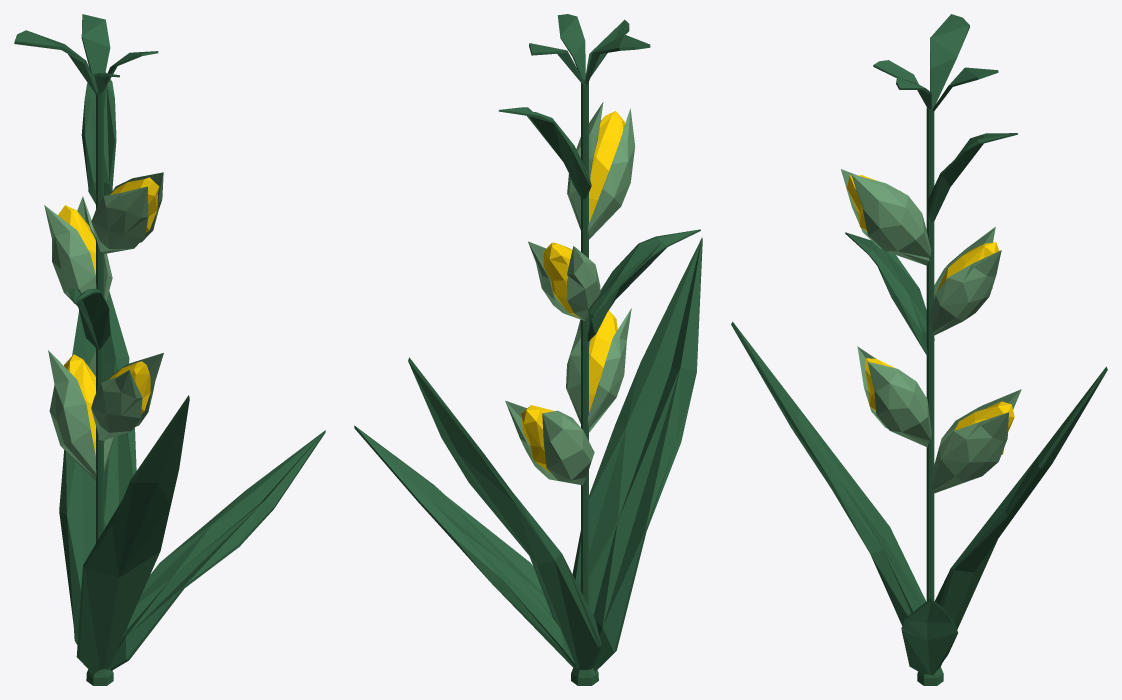
The model's file is mod_vg_corn.fbx.
3 renders of one model, left to right at view 1: azimuth 30°, elevation 25°; view 2: azimuth 150°, elevation 25°; view 3: azimuth 270°, elevation 25°, orthographic. The views are drawn at different scales.
Visible parts, largest first — view 1: TigeMais, Epi1, Epi4, Epi3, Epi2; view 2: TigeMais, Epi4, Epi1, Epi2, Epi3; view 3: TigeMais, Epi1, Epi4, Epi3, Epi2.
Part boxes in pixels (x1=…): TigeMais: x1=14, y1=14, x2=325, y2=685; Epi1: x1=48, y1=350, x2=113, y2=482; Epi4: x1=91, y1=172, x2=163, y2=254; Epi3: x1=44, y1=196, x2=112, y2=306; Epi2: x1=91, y1=353, x2=163, y2=440; TigeMais: x1=354, y1=14, x2=702, y2=685; Epi4: x1=567, y1=102, x2=635, y2=239; Epi1: x1=505, y1=400, x2=594, y2=485; Epi2: x1=566, y1=308, x2=631, y2=432; Epi3: x1=528, y1=241, x2=600, y2=320; TigeMais: x1=731, y1=14, x2=1107, y2=685; Epi1: x1=931, y1=389, x2=1021, y2=493; Epi4: x1=841, y1=169, x2=931, y2=265; Epi3: x1=929, y1=227, x2=1001, y2=335; Epi2: x1=857, y1=346, x2=931, y2=447.
Size of the model in its own units: 75.29 by 156 by 84.02.
